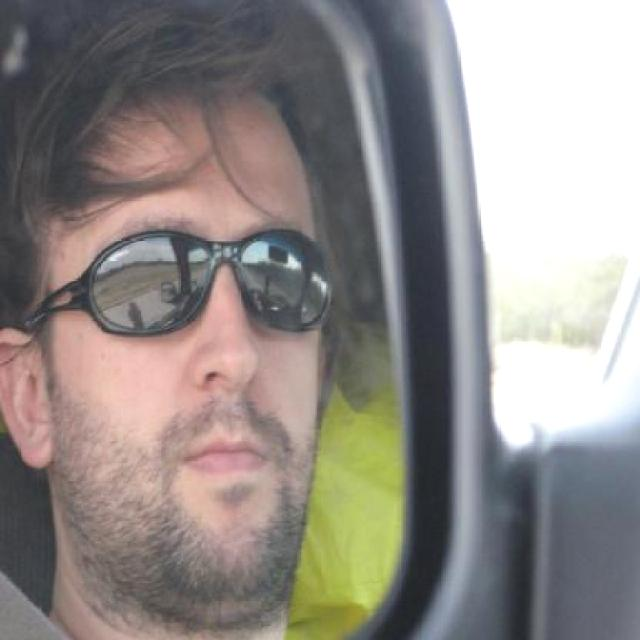face_nomask: (79, 217, 332, 528)
glasses: (29, 226, 336, 332)
head_nohelmet: (42, 24, 313, 164)
